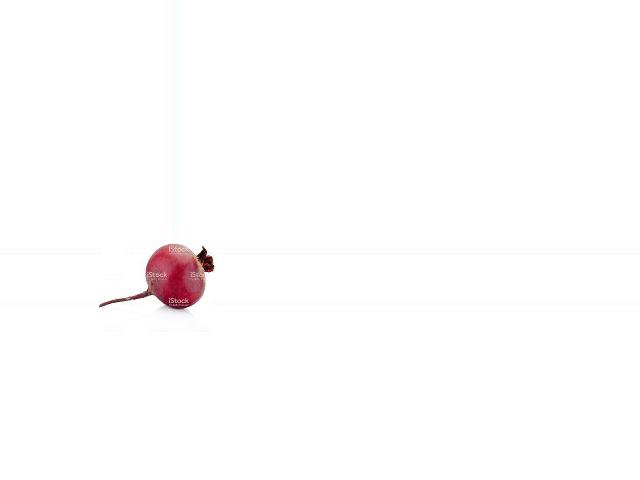beet: (100, 244, 214, 309)
